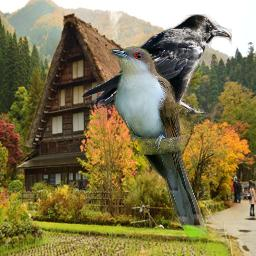Crow: (80, 13, 232, 123)
Cuckoo: (109, 46, 209, 240)
